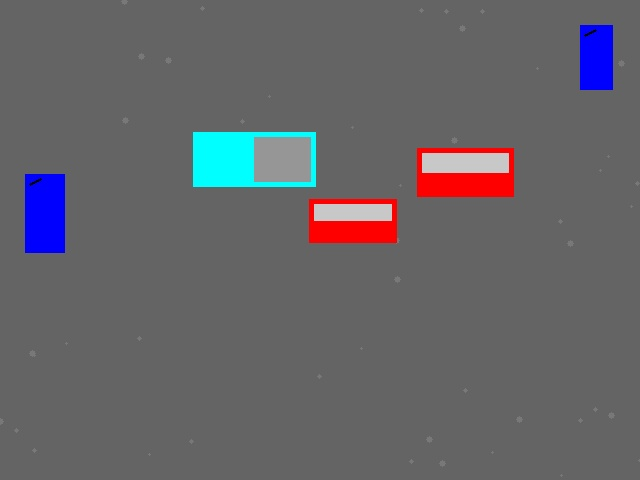car: (417, 148, 513, 196), (309, 199, 396, 242)
motorcycle: (25, 174, 64, 252), (580, 25, 612, 89)
truck: (193, 132, 315, 186)
